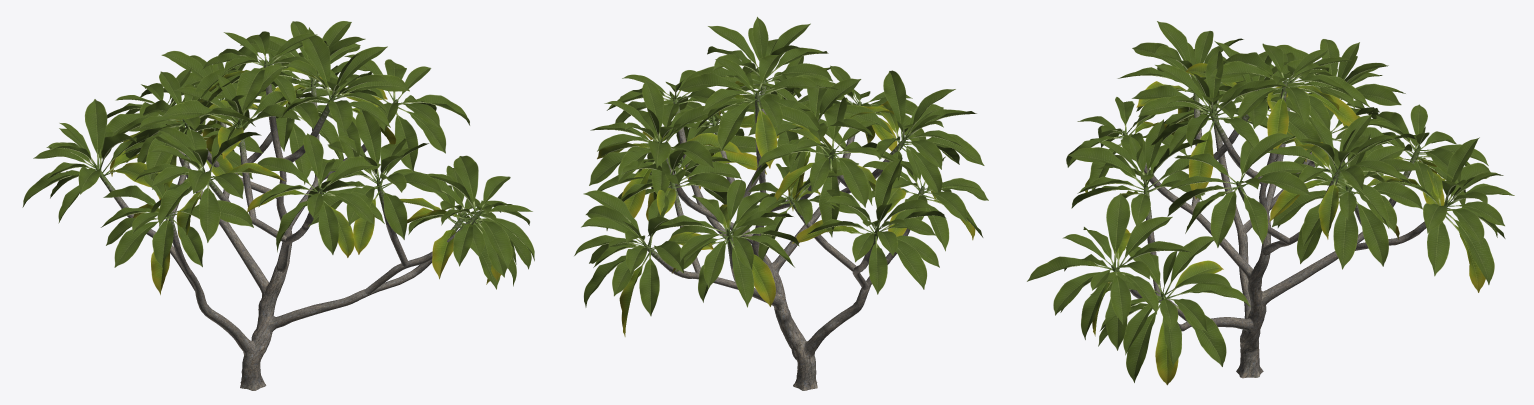
File: tropical_tree.glb
3 renders of one model, left to right at view 1: azimuth 30°, elevation 25°; view 2: azimuth 150°, elevation 25°; view 3: azimuth 270°, elevation 25°, orthographic. The views are drawn at different scales.
Visible parts, largest first — view 1: Plumeria_rubra_pink_HD; view 2: Plumeria_rubra_pink_HD; view 3: Plumeria_rubra_pink_HD.
Part boxes in pixels (box(x1,y1,x2,y2)): Plumeria_rubra_pink_HD: box(22, 21, 534, 390); Plumeria_rubra_pink_HD: box(574, 16, 988, 390); Plumeria_rubra_pink_HD: box(1027, 21, 1514, 385).
Bounding box in the file's own units: 2.52 × 1.96 × 2.59.
Materials: 6 (6 with a texture image).
